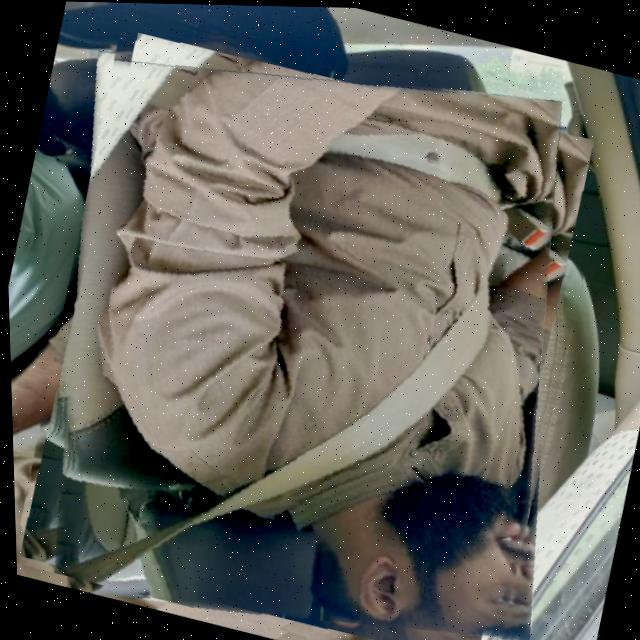seatbelt: (0, 4, 627, 640)
